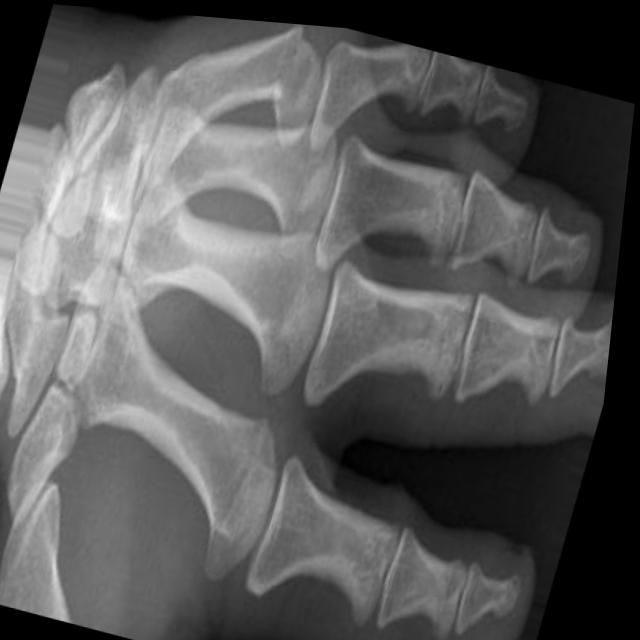fracture: (257, 17, 314, 117)
